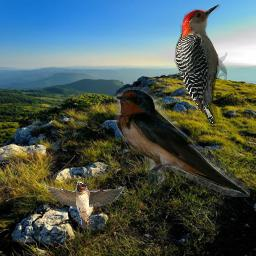Swallow: (112, 87, 250, 197), (41, 181, 127, 229)
Woodpecker: (174, 4, 227, 124)
